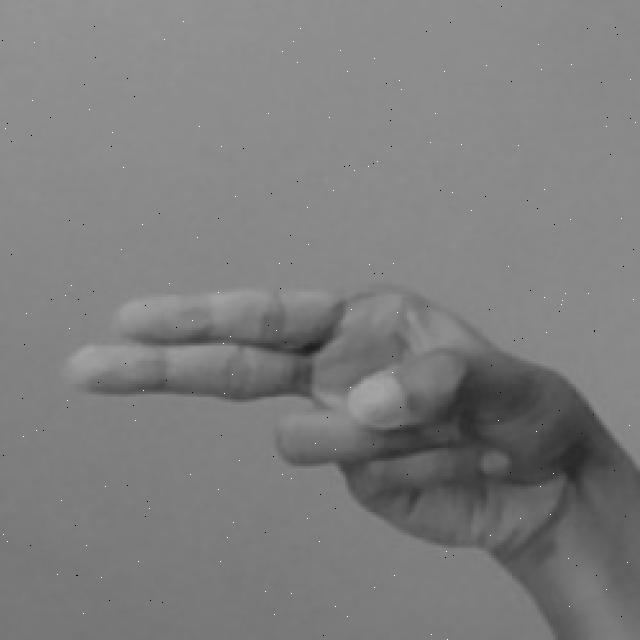H: (57, 271, 638, 640)
